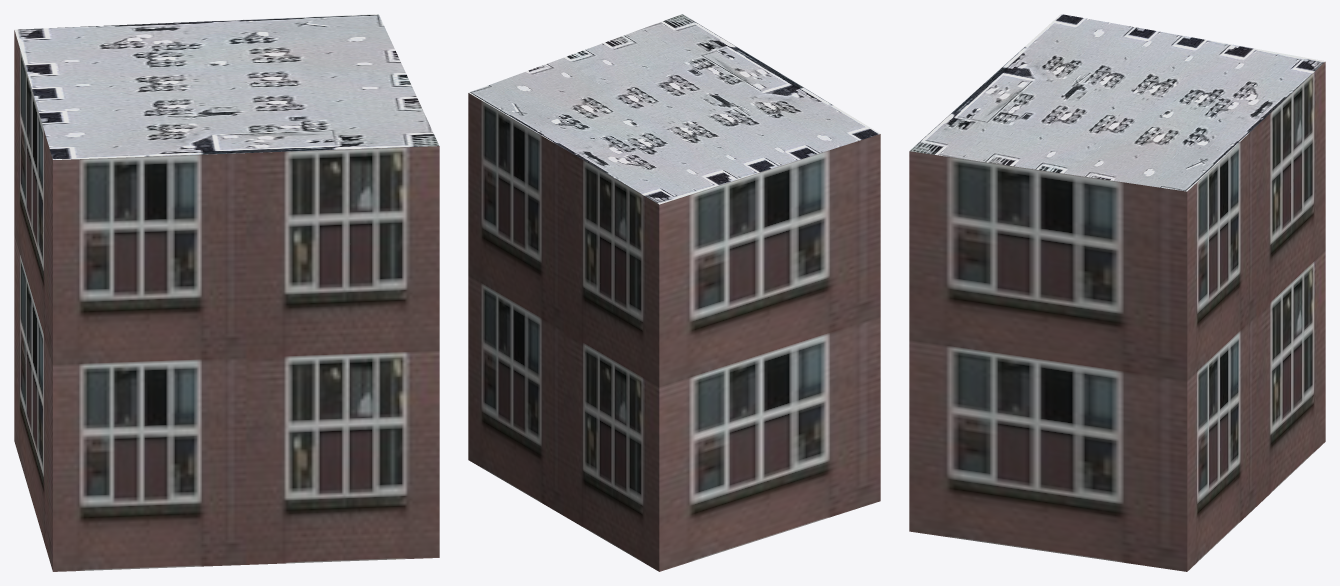
File: ResTex__2233.fbx
The picture shows the model from 3 angles, left to right: view 1: azimuth 30°, elevation 25°; view 2: azimuth 150°, elevation 25°; view 3: azimuth 270°, elevation 25°; orthographic projection. The views are drawn at different scales.
Visible parts, largest first — view 1: CityEngineMaterial_12_m, CityEngineMaterial_4_m; view 2: CityEngineMaterial_12_m, CityEngineMaterial_4_m; view 3: CityEngineMaterial_12_m, CityEngineMaterial_4_m.
Boxes of the visible parts, box(x1,y1,x2,y2) form: CityEngineMaterial_12_m: box(14, 30, 439, 571); CityEngineMaterial_4_m: box(14, 14, 439, 159); CityEngineMaterial_12_m: box(468, 93, 880, 571); CityEngineMaterial_4_m: box(468, 14, 880, 204); CityEngineMaterial_12_m: box(909, 62, 1325, 571); CityEngineMaterial_4_m: box(909, 14, 1325, 191).
Bounding box in the file's own units: 6.01 × 6 × 5.96.
Materials: 2 (2 with a texture image).
